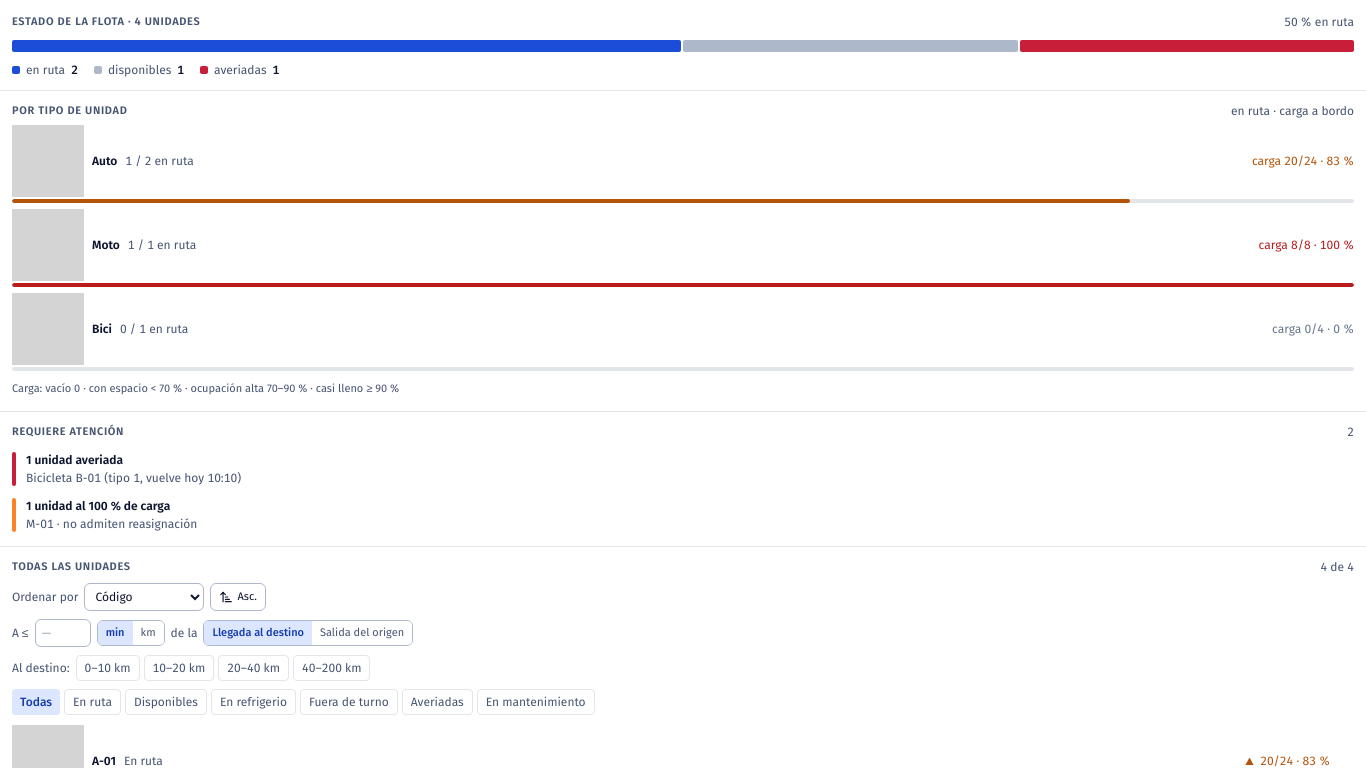
Rúbrica · PANEL · lista de unidades › E08 · se buscan las unidades a ≤ N km de su destino inmediato
Click the radio button with aria-label "Kilómetros" at [148, 633], box [132,621,164,645]
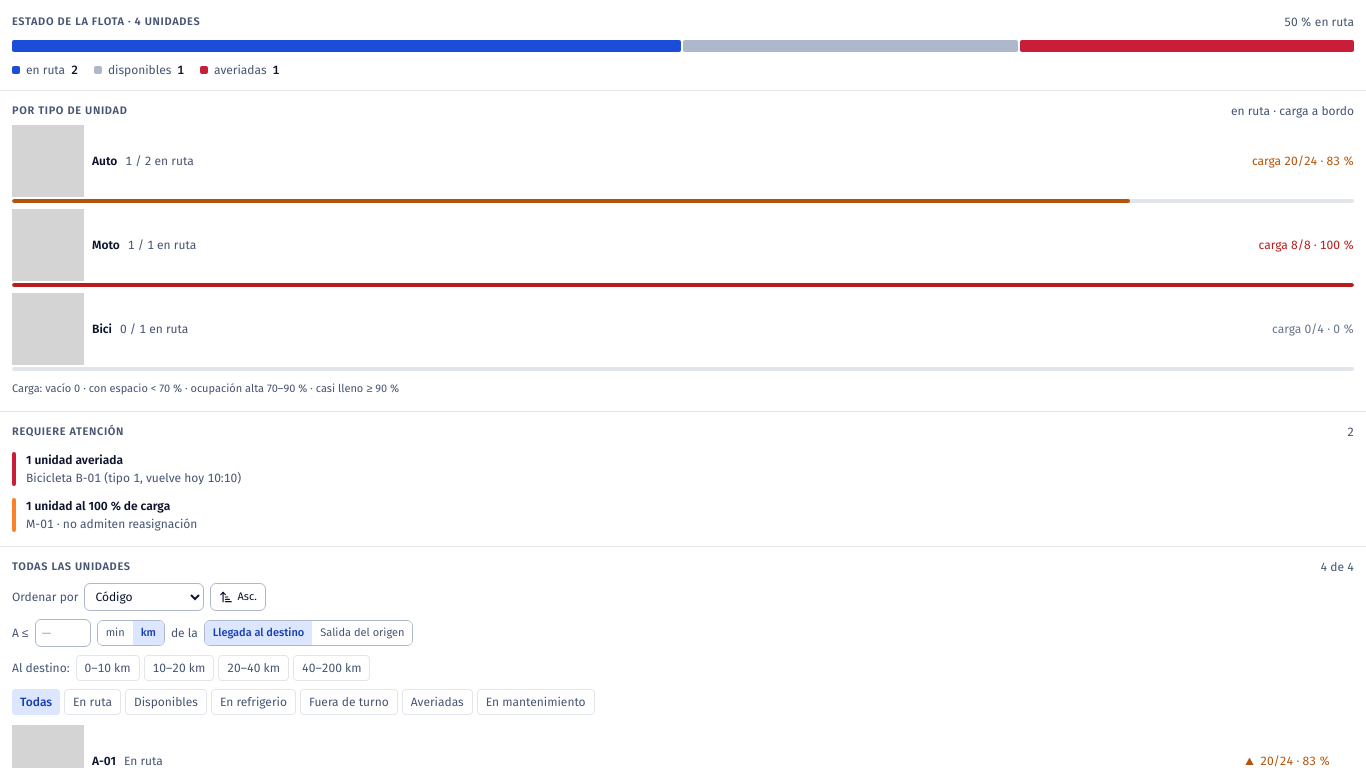
Type "5" into the number field named "Kilómetros como máximo" at [63, 633], box [35,619,91,647]
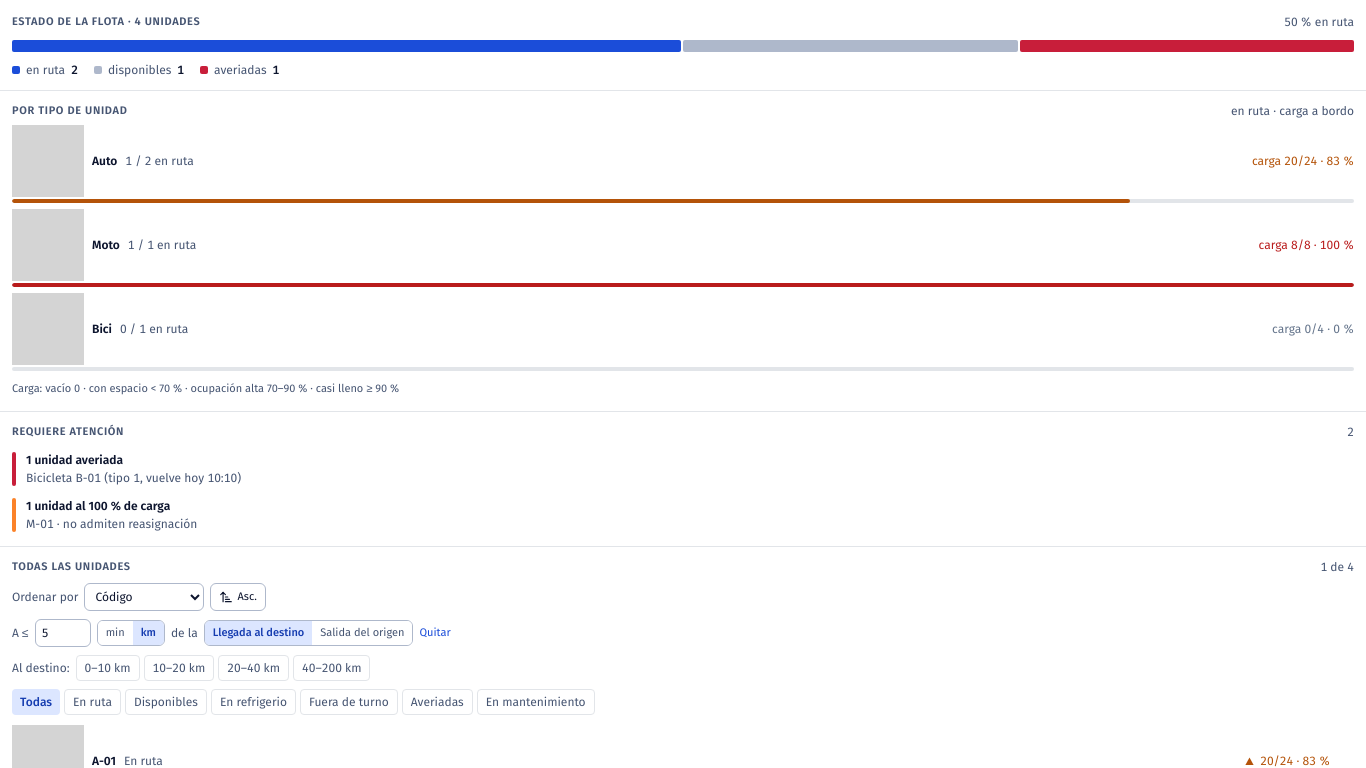
Replace the text in the number field named "Kilómetros como máximo" with "4" at [63, 633], box [35,619,91,647]
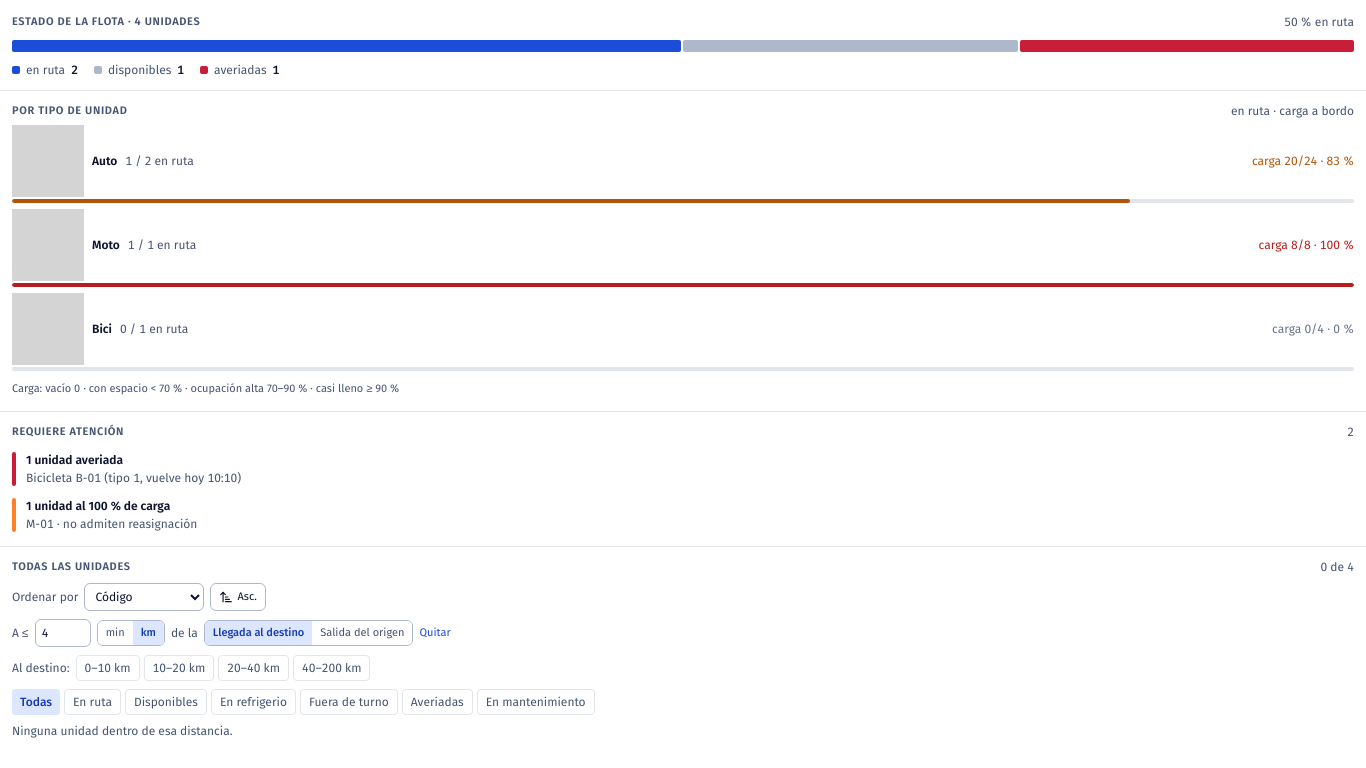
expect the text "Ninguna unidad dentro de esa distancia." is shown: met, box [12,724,233,738]
